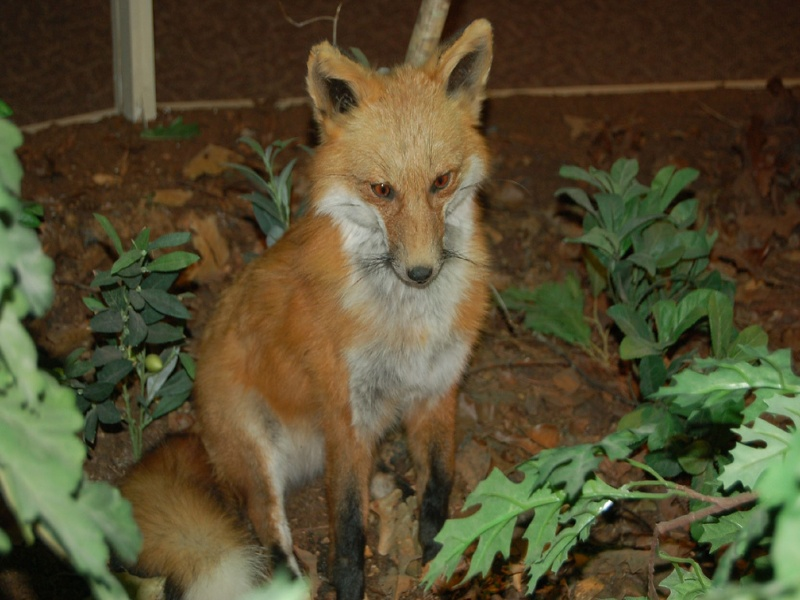fox: (107, 18, 498, 599)
